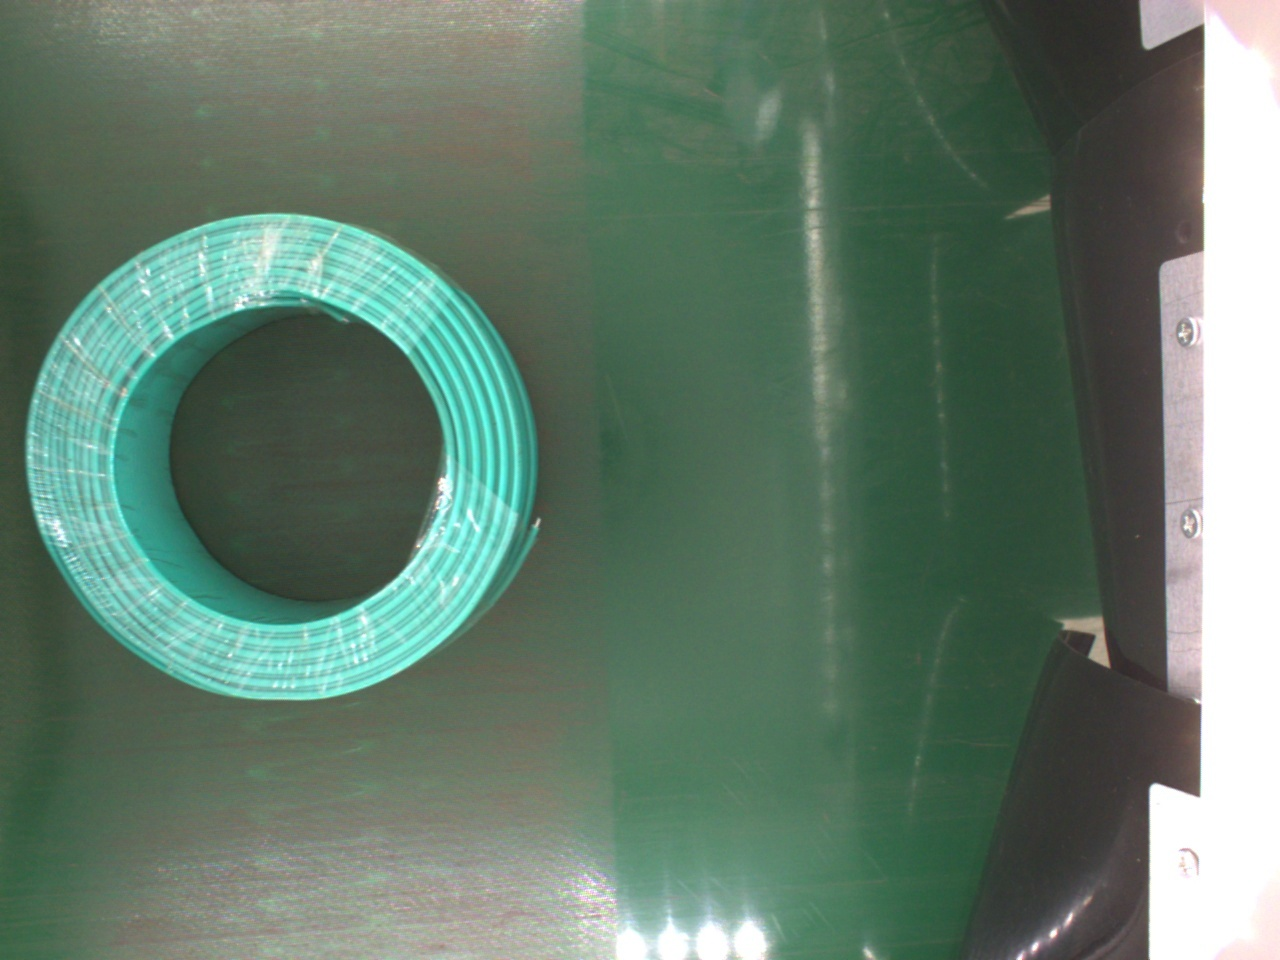green: (22, 210, 537, 700)
